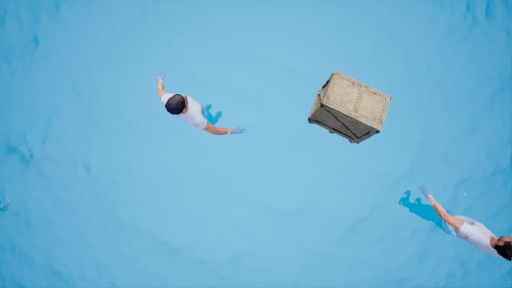person: (406, 179, 512, 261), (155, 73, 244, 143)
